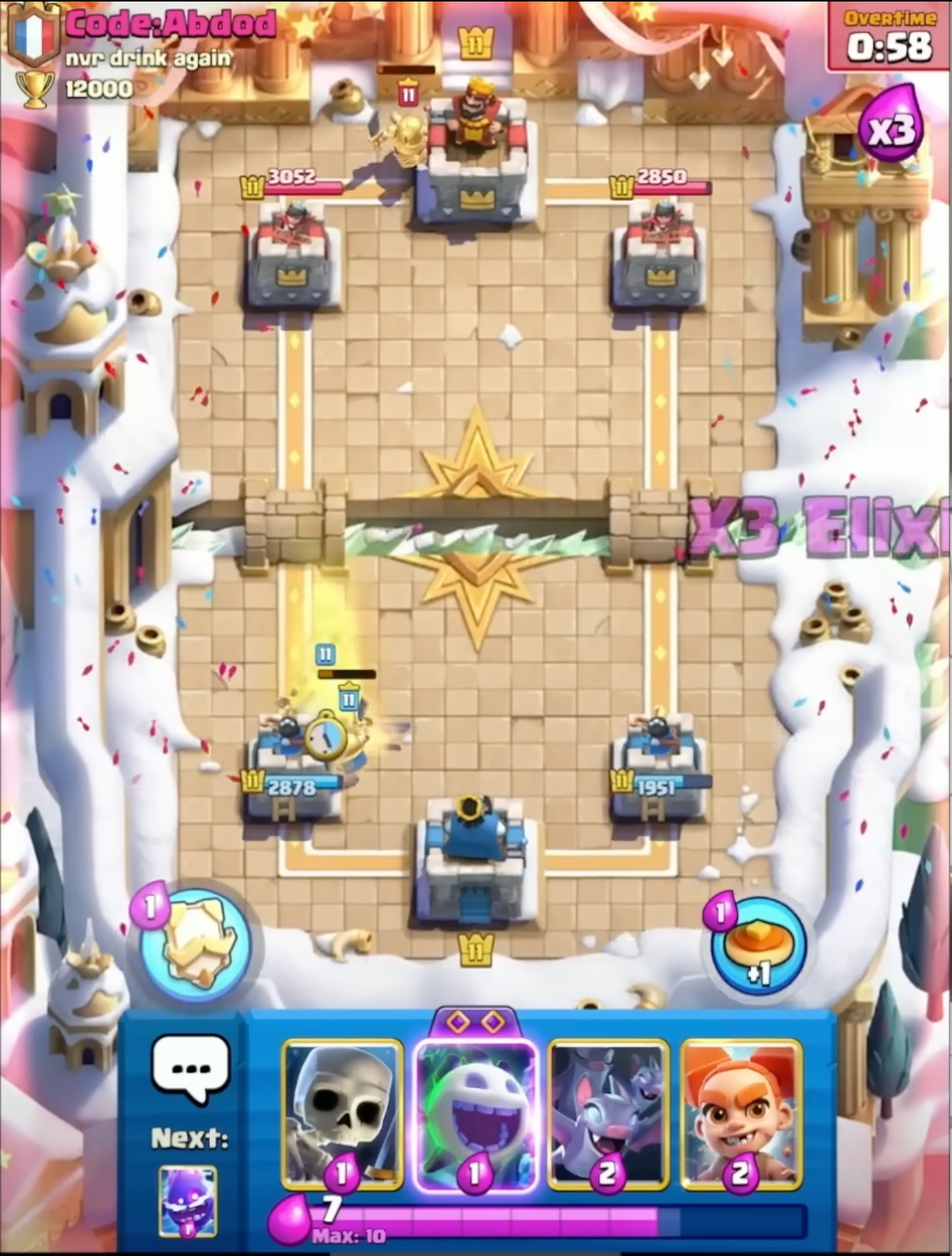hero-mini-pekka: (365, 57, 439, 176)
